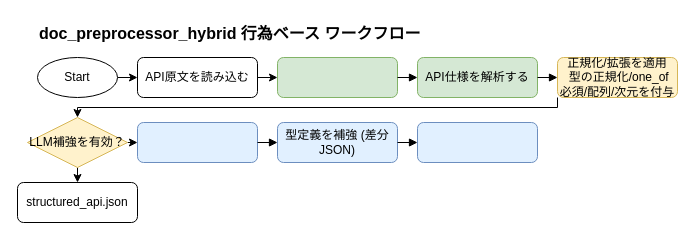
Image size: 695x240. Some labels were removed from this diagram. The centre of each missing label's shape, as x and y in pixels:
"APIエントリを補強 (差分JSON)" goes at point (477, 142).
"原文抜粋/型文脈を抽出" goes at point (197, 142).
"型定義を解析する" goes at point (337, 77).
